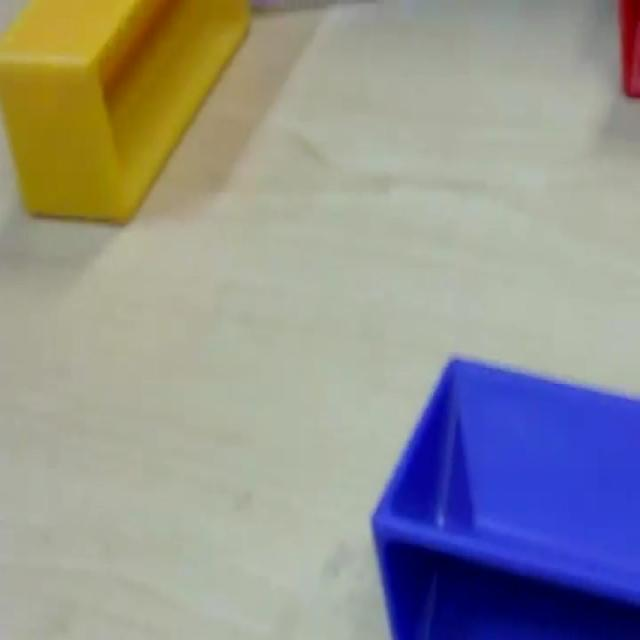blue_block: (370, 351, 638, 636)
yellow_block: (0, 0, 251, 225)
